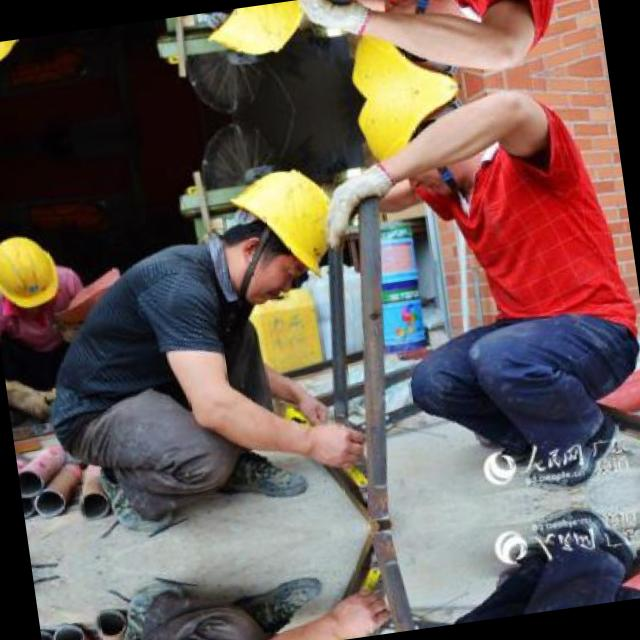helmet: (202, 158, 348, 314), (346, 83, 491, 214), (332, 0, 477, 103), (179, 0, 314, 72), (0, 228, 66, 322), (0, 38, 32, 70)
